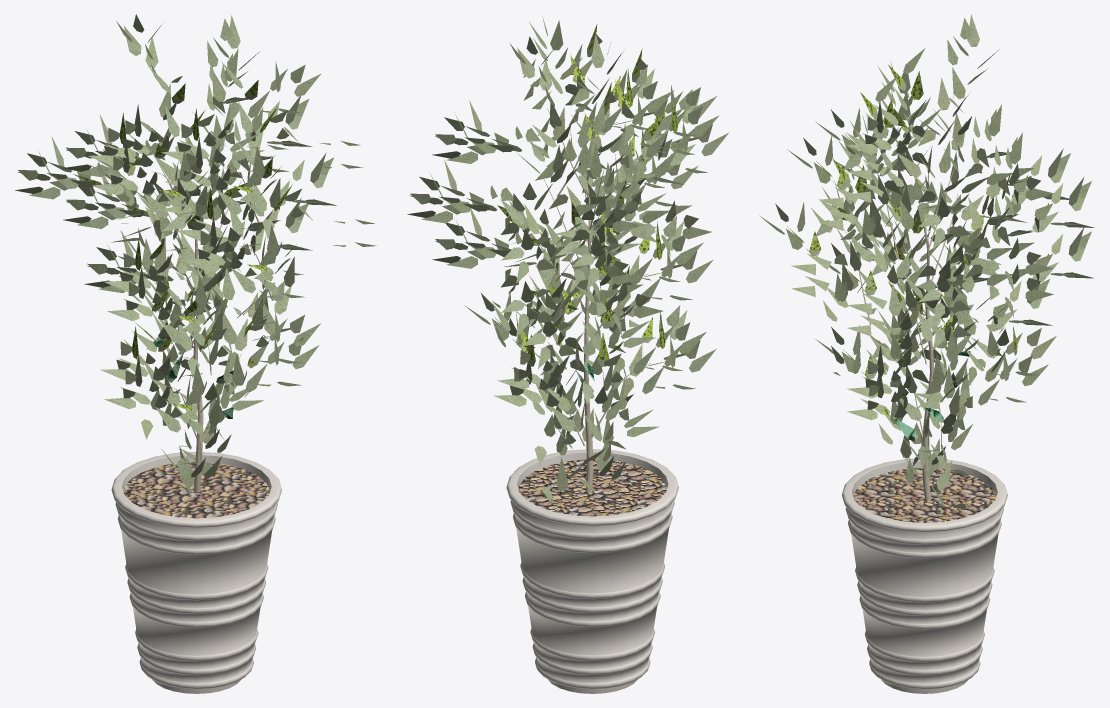
Rendered from floor_plant_3.glb.
3 views of the same model, side by side, from view 1: azimuth 30°, elevation 25°; view 2: azimuth 150°, elevation 25°; view 3: azimuth 270°, elevation 25° (orthographic). The views are drawn at different scales.
Visible parts, largest first — view 1: Geom3D (×5), Geom3D_Group#1; view 2: Geom3D (×5), Geom3D_Group#1; view 3: Geom3D (×5), Geom3D_Group#1.
Boxes of the visible parts, box(x1,y1,x2,y2) form: Geom3D (×5): box(15, 14, 376, 693); Geom3D_Group#1: box(193, 239, 203, 492); Geom3D (×5): box(407, 16, 728, 693); Geom3D_Group#1: box(584, 198, 593, 492); Geom3D (×5): box(759, 14, 1094, 693); Geom3D_Group#1: box(922, 226, 934, 500).
Bounding box in the file's own units: 0.7275 × 1.48 × 0.7077.
7 materials, 5 textured.
